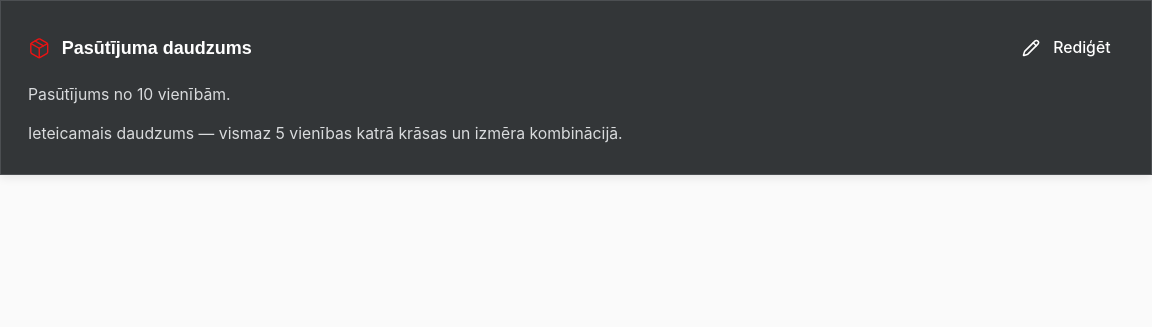
Scenario: admin product quantity editor › cancel and Escape do not write changes
Later steps or results of the test are not shown.
Click the button "Rediģēt" at (1066, 48), box [1008,28,1124,68]
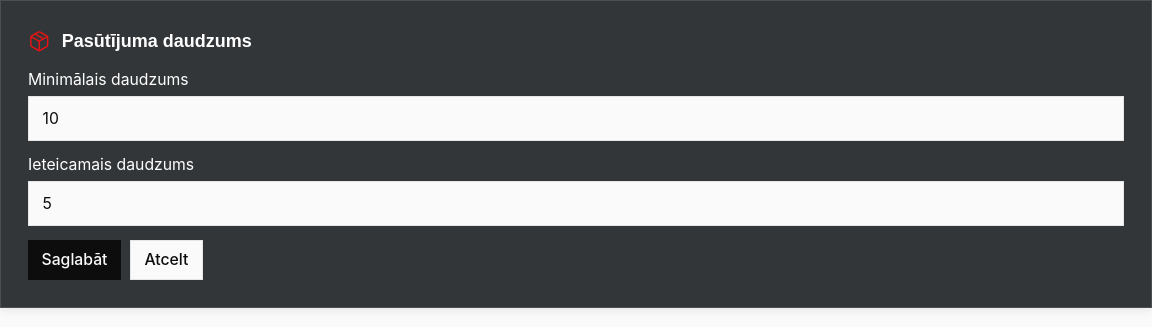
Replace the text in the number field labelled "Minimālais daudzums" with "25" at (576, 118), box [28,96,1124,140]
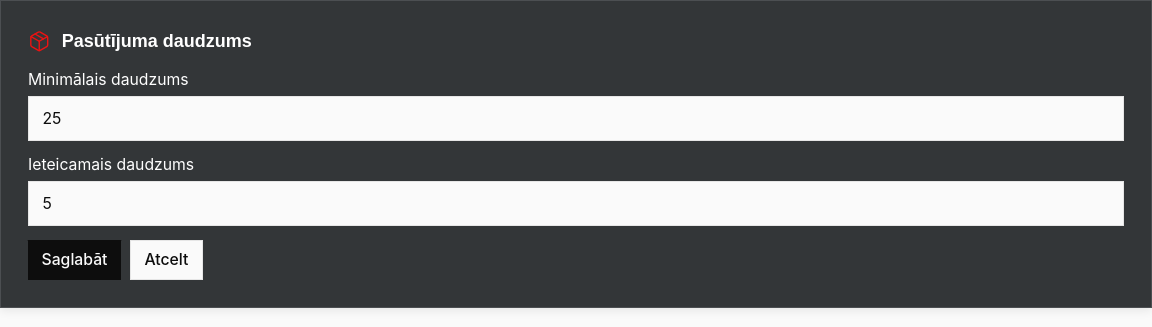
Click the button "Atcelt" at (166, 260), box [130,240,203,280]
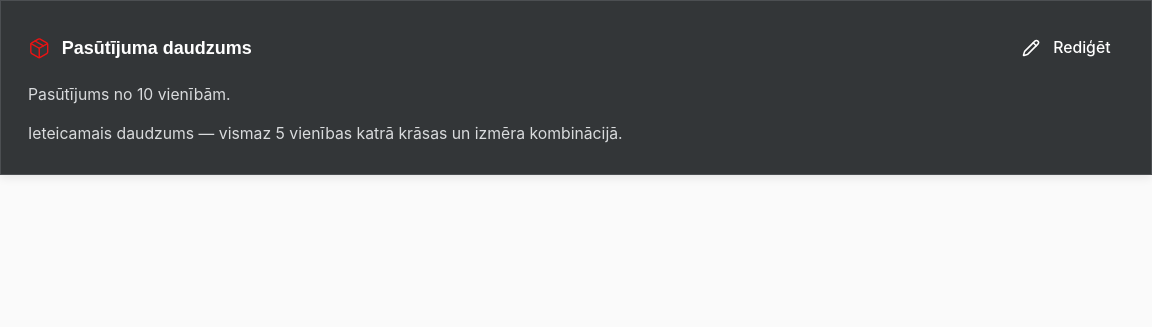
Click the button "Rediģēt" at (1066, 48), box [1008,28,1124,68]
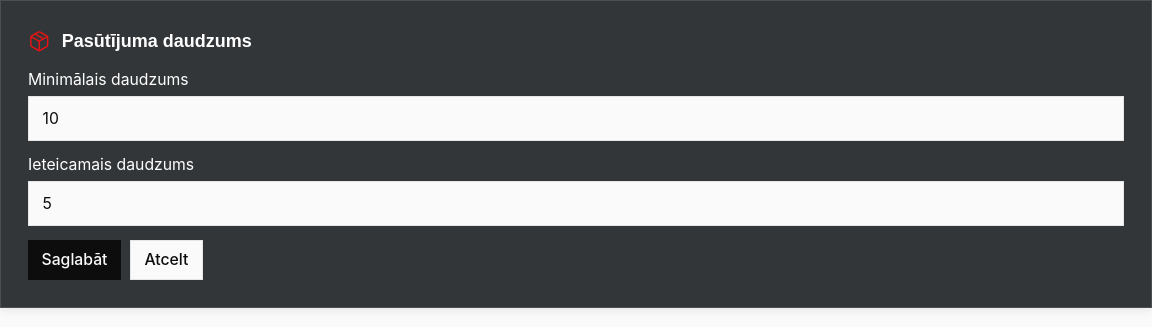
Result: the number field labelled "Minimālais daudzums" holds "10" at [28,96,1124,140]
